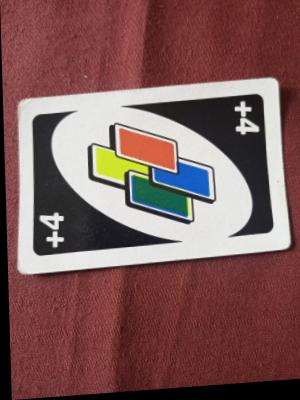wild-4: (3, 77, 291, 274), (26, 205, 72, 257), (221, 96, 265, 149)
